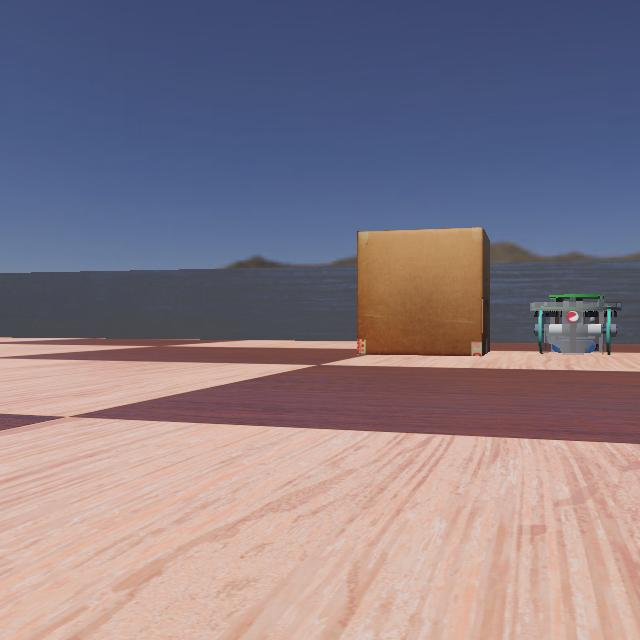cardboard-box: (350, 226, 518, 356)
